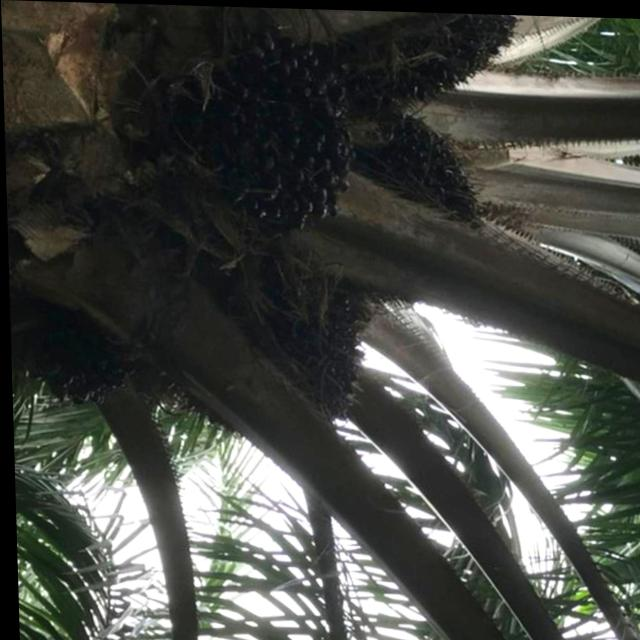almost: (196, 31, 356, 236), (184, 277, 366, 442), (368, 112, 492, 300), (361, 8, 527, 110)
